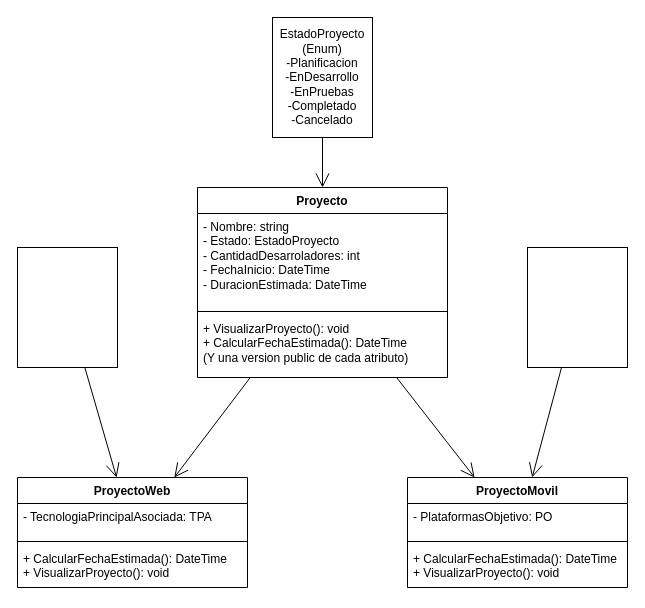
This 645x608 diagram has some shape labels left out. The centre of each missing label's shape, as x and y in pixels:
"PO (Enum) -iOS -Android -WindowsPhone" belongs at pixel 577 307.
"TPA (Enum) -React -Angular -Vue.js" belongs at pixel 67 307.
